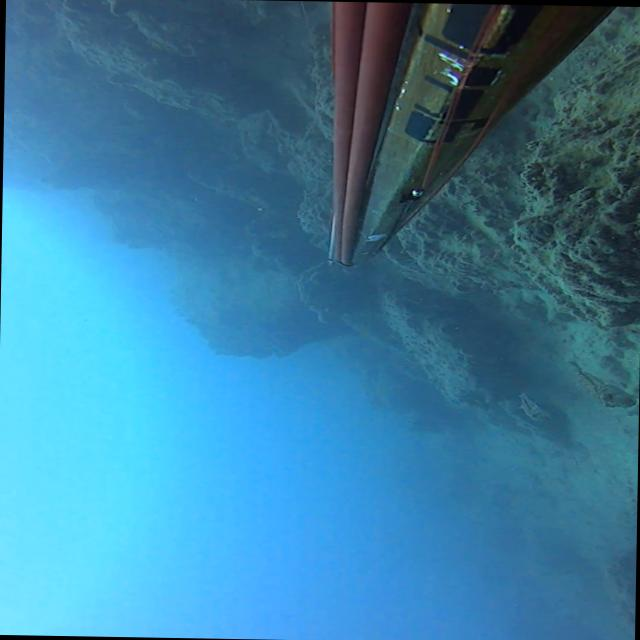Balon Baligi: (564, 359, 638, 406), (517, 390, 553, 421)
